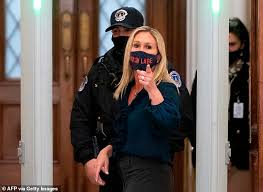mask: (129, 51, 157, 70), (111, 35, 131, 51)
